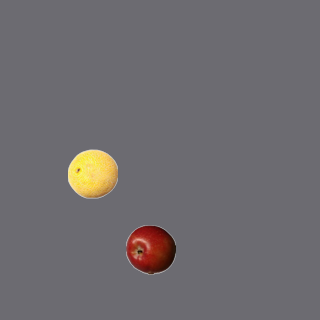Apple Braeburn: (125, 224, 175, 274)
Cantaloupe 1: (67, 148, 117, 198)
